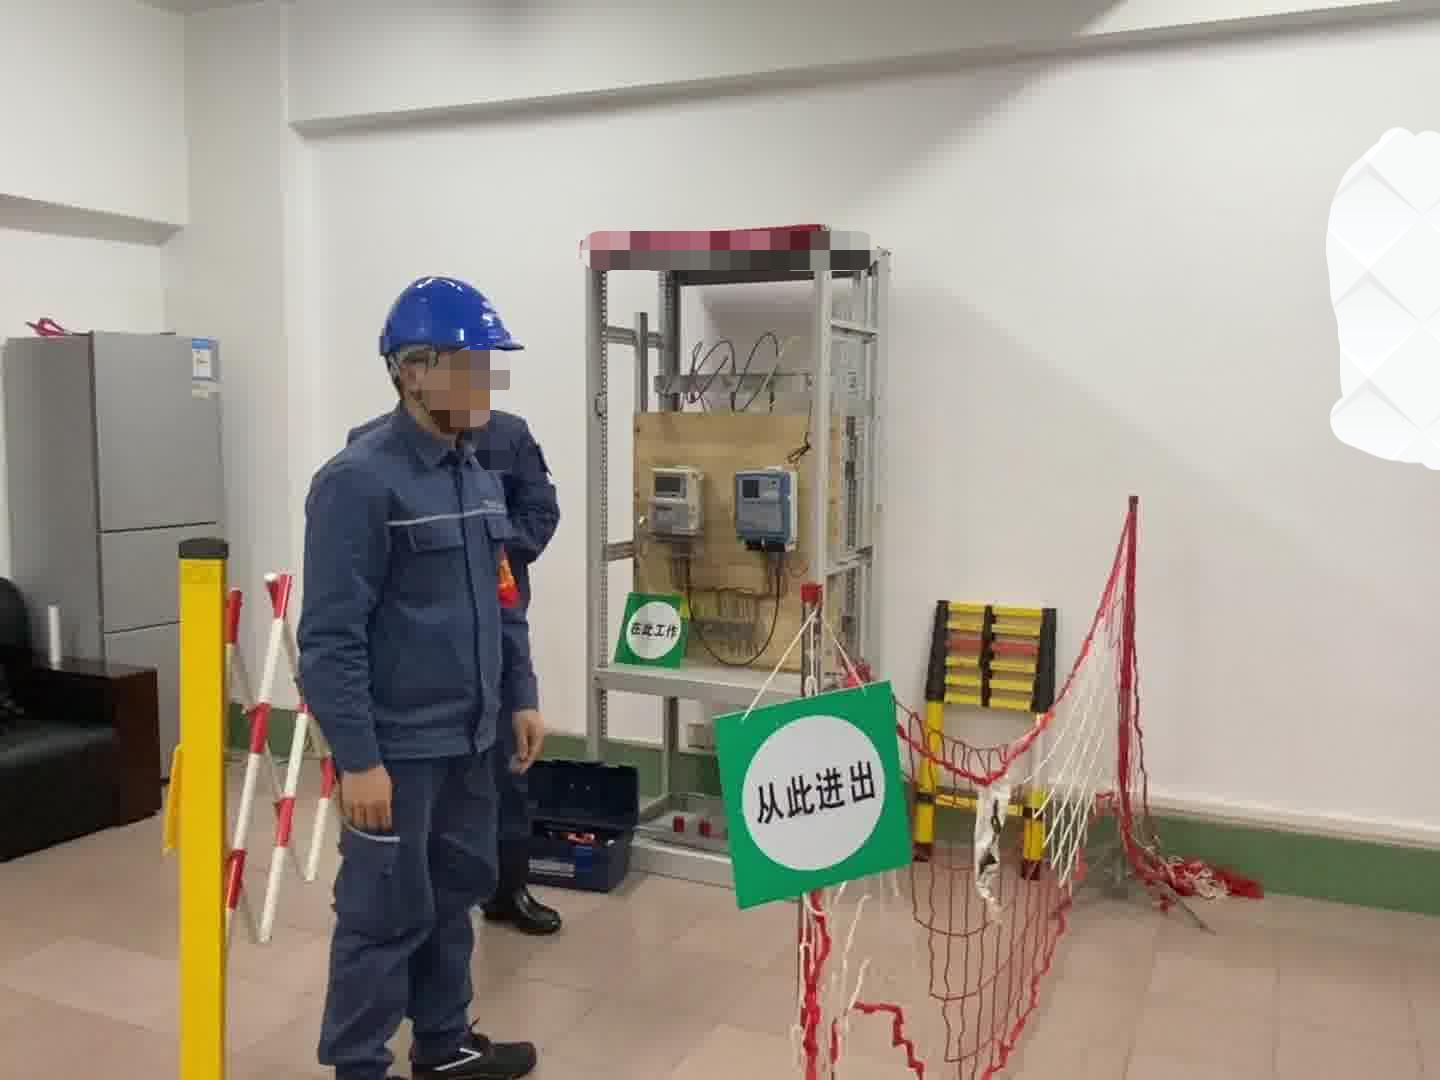halt: (376, 276, 524, 437)
inear: (391, 347, 451, 415)
